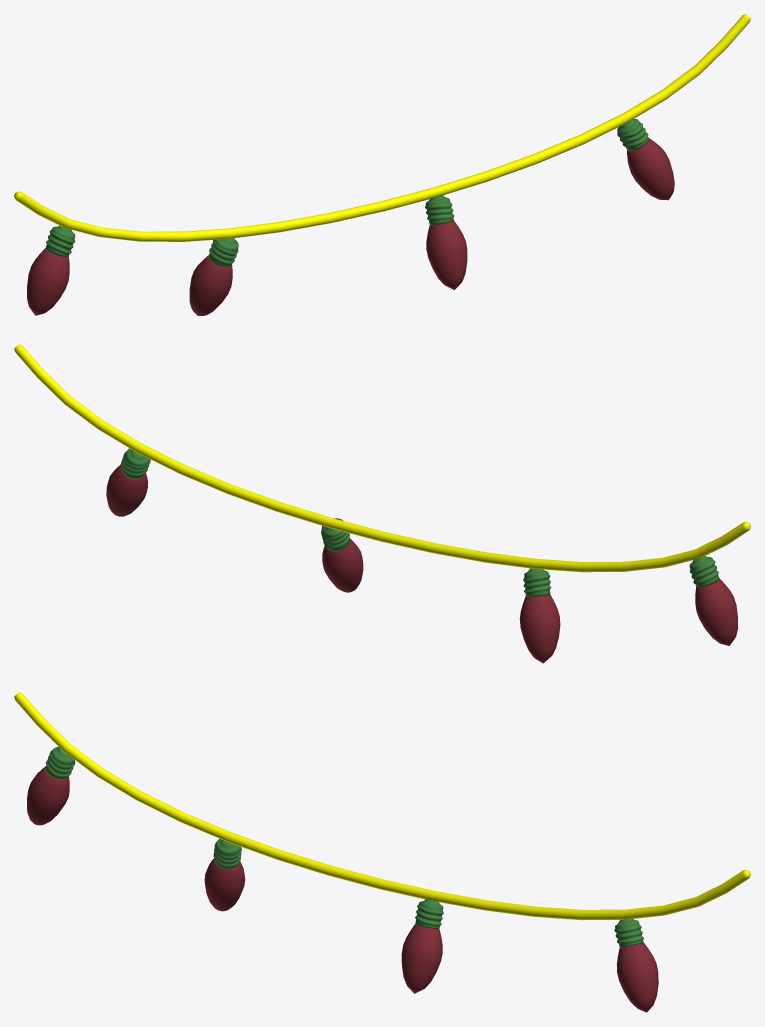
Rendered from xmaslights.fbx.
3 views of the same model, one above another, from view 1: azimuth 30°, elevation 25°; view 2: azimuth 150°, elevation 25°; view 3: azimuth 330°, elevation 25° (orthographic).
Visible parts, largest first — view 1: xmas_wire_low, xmas_light3_low (×2), xmas_light1_low (×2), xmas_light4_low (×2), xmas_light2_low (×2); view 2: xmas_wire_low, xmas_light2_low (×2), xmas_light1_low (×2), xmas_light3_low (×2), xmas_light4_low (×2); view 3: xmas_wire_low, xmas_light4_low (×2), xmas_light3_low (×2), xmas_light1_low (×2), xmas_light2_low (×2).
Boxes of the visible parts, box(x1,y1,x2,y2) form: xmas_wire_low: box(14, 14, 750, 241); xmas_light3_low (×2): box(425, 195, 467, 289); xmas_light1_low (×2): box(27, 225, 75, 315); xmas_light4_low (×2): box(617, 119, 674, 200); xmas_light2_low (×2): box(189, 238, 238, 315); xmas_wire_low: box(14, 344, 750, 572); xmas_light2_low (×2): box(519, 568, 560, 663); xmas_light1_low (×2): box(689, 556, 737, 645); xmas_light3_low (×2): box(321, 518, 363, 592); xmas_light4_low (×2): box(106, 448, 150, 516); xmas_wire_low: box(14, 692, 750, 920); xmas_light4_low (×2): box(614, 918, 658, 1012); xmas_light3_low (×2): box(401, 898, 443, 993); xmas_light1_low (×2): box(27, 746, 75, 825); xmas_light2_low (×2): box(204, 838, 245, 911).
Bounding box in the file's own units: 153 × 36.78 × 14.86.
